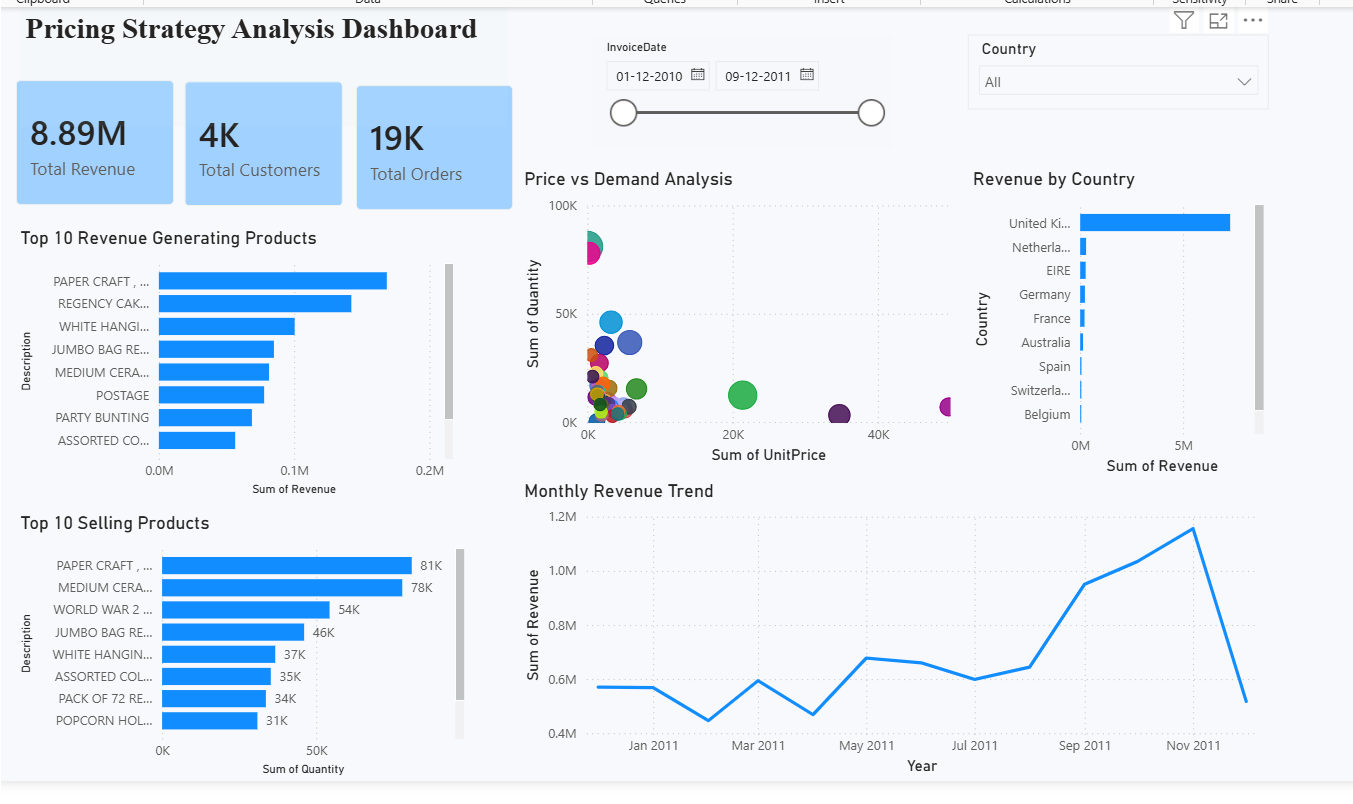

This screenshot's page, from the dashboard's own definition file:
{"tool":"powerbi","page":{"name":"Page 1","canvas":[1280,720],"ordinal":0},"visuals":[{"type":"cardVisual","fields":{"Data":["Sheet1.Total Revenue"]},"box":[3.3,51.1,181.1,150],"z":0},{"type":"cardVisual","fields":{"Data":["Sheet1.Total Customers"]},"box":[160,52.2,181.1,150],"z":1000},{"type":"cardVisual","fields":{"Data":["Sheet1.Total Orders"]},"box":[320,55.6,180,150],"z":2000},{"type":"clusteredBarChart","title":"Top 10 Revenue Generating Products","fields":{"Category":["Sheet1.Description"],"Y":["Sum(Sheet1.Revenue)"]},"box":[20,205,412.5,255],"z":3000},{"type":"clusteredBarChart","title":"Top 10 Selling Products","fields":{"Category":["Sheet1.Description"],"Y":["Sum(Sheet1.Quantity)"]},"box":[20,470,422.5,250],"z":4000},{"type":"clusteredBarChart","title":"Revenue by Country","fields":{"Category":["Sheet1.Country"],"Y":["Sum(Sheet1.Revenue)"]},"box":[905.6,150,280,290],"z":5000},{"type":"lineChart","title":"Monthly Revenue Trend","fields":{"Category":["Sheet1.InvoiceDate.Variation.Date Hierarchy.Year","Sheet1.InvoiceDate.Variation.Date Hierarchy.Quarter","Sheet1.InvoiceDate.Variation.Date Hierarchy.Month","Sheet1.InvoiceDate.Variation.Date Hierarchy.Day"],"Y":["Sum(Sheet1.Revenue)"]},"box":[488.9,440,707.8,280],"z":6000},{"type":"scatterChart","title":"Price vs Demand Analysis","fields":{"X":["Sum(Sheet1.UnitPrice)"],"Y":["Sum(Sheet1.Quantity)"],"Size":["Sum(Sheet1.Revenue)"],"Series":["Sheet1.Description"]},"box":[488.9,150,416.7,280],"z":7000},{"type":"slicer","fields":{"Values":["Sheet1.Country"]},"box":[905.7,25.7,280,70],"z":8000},{"type":"slicer","fields":{"Values":["Sheet1.InvoiceDate"]},"box":[557.1,25.7,280,107.1],"z":9000},{"type":"textbox","box":[24.4,0,453.3,111.1],"z":10000}]}

Visuals, with their boxes on the page's 1280x720 design canvas (x1, y1, x2, y2). These are canvas units, not pixel positions in the 1353x804 screenshot, which may show the page scaled, cropped or inside an application window:
cardVisual - Sheet1.Total Revenue: pyautogui.locateOnScreen(3, 51, 184, 201)
cardVisual - Sheet1.Total Customers: pyautogui.locateOnScreen(160, 52, 341, 202)
cardVisual - Sheet1.Total Orders: pyautogui.locateOnScreen(320, 56, 500, 206)
"Top 10 Revenue Generating Products" clusteredBarChart: pyautogui.locateOnScreen(20, 205, 432, 460)
"Top 10 Selling Products" clusteredBarChart: pyautogui.locateOnScreen(20, 470, 442, 720)
"Revenue by Country" clusteredBarChart: pyautogui.locateOnScreen(906, 150, 1186, 440)
"Monthly Revenue Trend" lineChart: pyautogui.locateOnScreen(489, 440, 1197, 720)
"Price vs Demand Analysis" scatterChart: pyautogui.locateOnScreen(489, 150, 906, 430)
slicer - Sheet1.Country: pyautogui.locateOnScreen(906, 26, 1186, 96)
slicer - Sheet1.InvoiceDate: pyautogui.locateOnScreen(557, 26, 837, 133)
textbox: pyautogui.locateOnScreen(24, 0, 478, 111)
